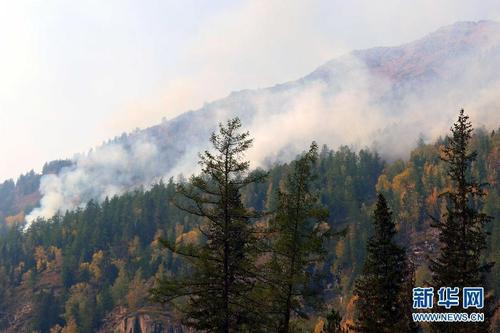smoke: (237, 92, 426, 153), (31, 144, 139, 206), (425, 36, 500, 125), (156, 119, 213, 180)
